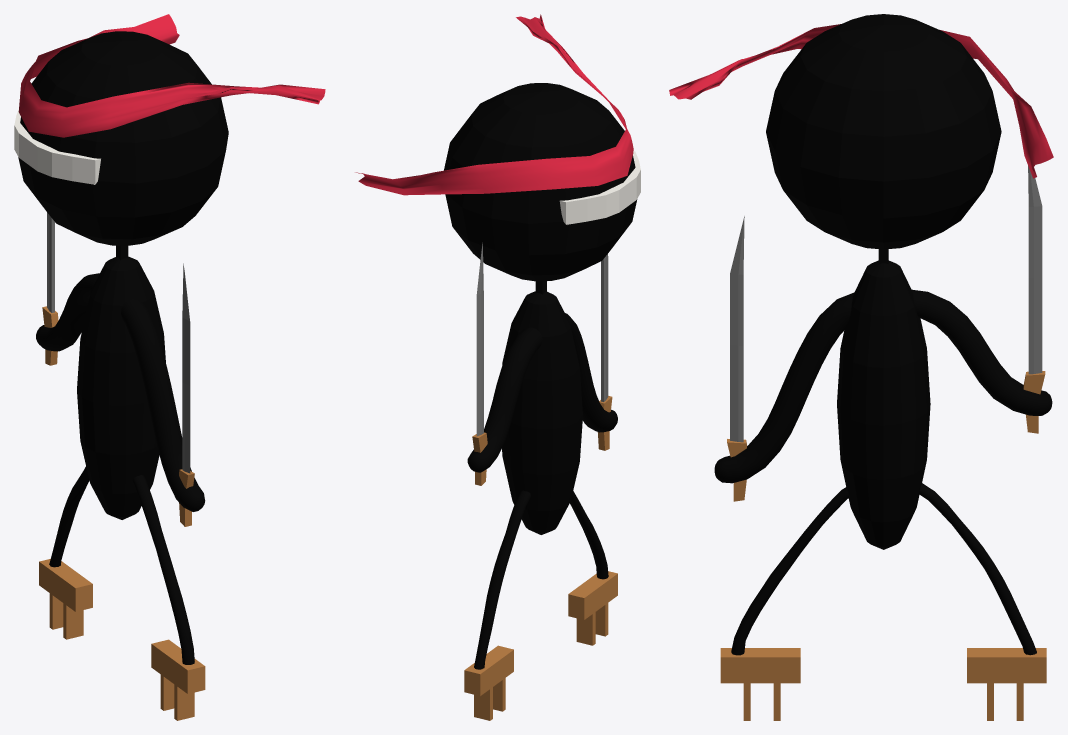
Rendered from boss_ninja.glb.
The picture shows the model from 3 angles, left to right: view 1: azimuth 30°, elevation 25°; view 2: azimuth 150°, elevation 25°; view 3: azimuth 270°, elevation 25°; orthographic projection. The views are drawn at different scales.
Visible parts, largest first — view 1: Sphere, Sphere.001, Retopo_BézierCurve.001, Plane, Cube.002, Cube.001, Cube.006, Cube.003; view 2: Sphere, Sphere.001, Retopo_BézierCurve.001, Plane, Cube.002, Cube.001, Cube.003, Cube.006; view 3: Sphere, Sphere.001, Retopo_BézierCurve.001, Cube.002, Plane, Cube.003, Cube.006, Cube.004.
Boxes of the visible parts, x1,y1,x2,y2 form: Sphere: (18,31,228,245); Sphere.001: (77,256,165,519); Retopo_BézierCurve.001: (36,273,205,664); Plane: (18,14,325,137); Cube.002: (39,559,205,720); Cube.001: (14,109,100,184); Cube.006: (182,263,190,473); Cube.003: (47,212,54,312); Sphere: (444,83,637,281); Sphere.001: (502,291,582,534); Retopo_BézierCurve.001: (467,313,617,669); Plane: (355,14,633,195); Cube.002: (464,571,617,720); Cube.001: (559,151,640,224); Cube.003: (476,242,483,436); Cube.006: (601,254,608,401); Sphere: (766,14,1001,249); Sphere.001: (837,260,930,549); Retopo_BézierCurve.001: (714,289,1052,655); Cube.002: (720,648,1046,720); Plane: (669,24,1053,178); Cube.003: (1028,166,1042,374); Cube.006: (730,216,744,442); Cube.004: (1023,371,1045,433).
Size of the model in its own units: 0.733 by 1.99 by 1.01.
